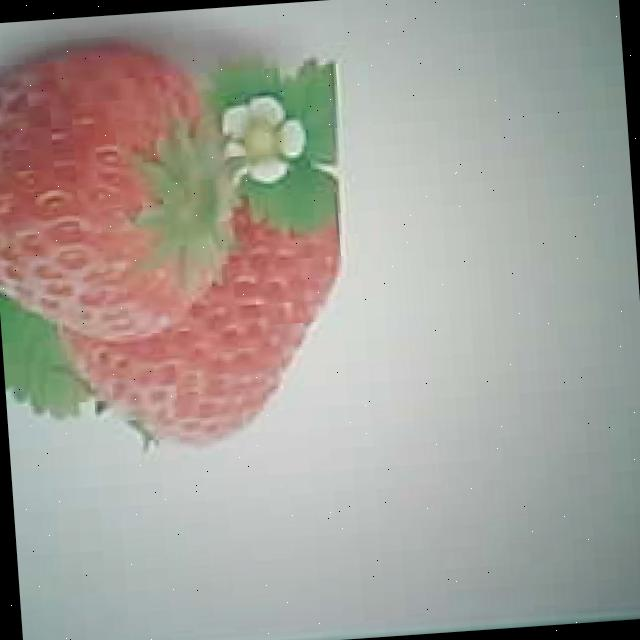strawberry: (0, 44, 236, 348)
